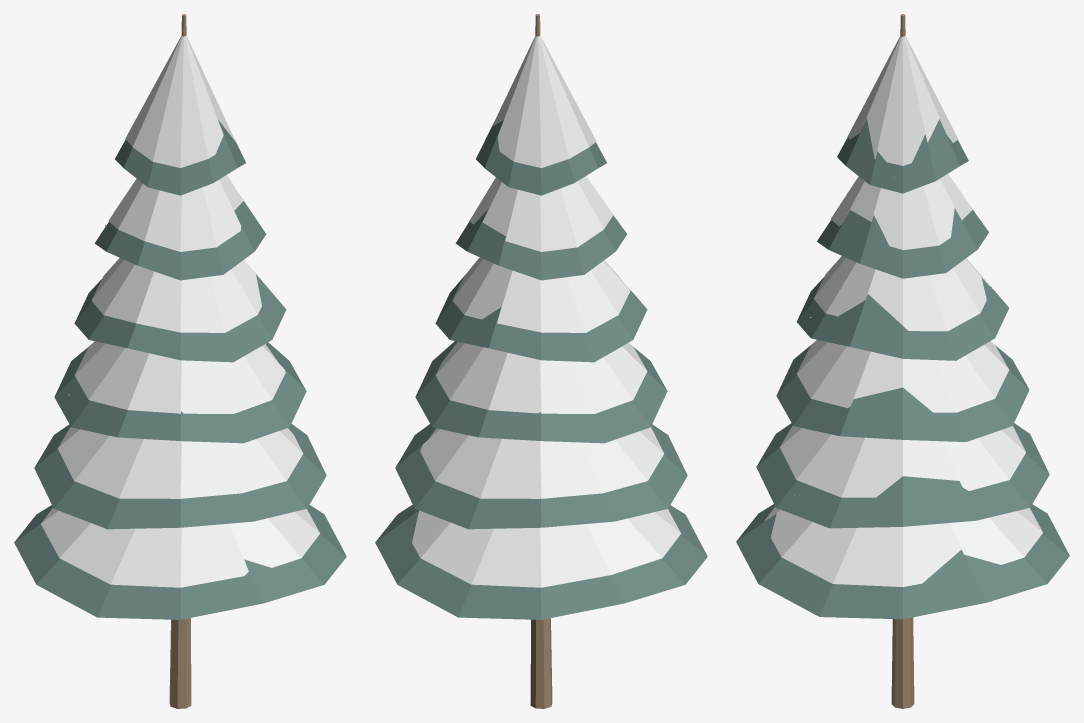
The model's file is snow-fir-1.glb.
The picture shows the model from 3 angles, left to right: view 1: azimuth 30°, elevation 25°; view 2: azimuth 150°, elevation 25°; view 3: azimuth 270°, elevation 25°; orthographic projection.
Size of the model in its own units: 9.37 by 21.4 by 9.37.
